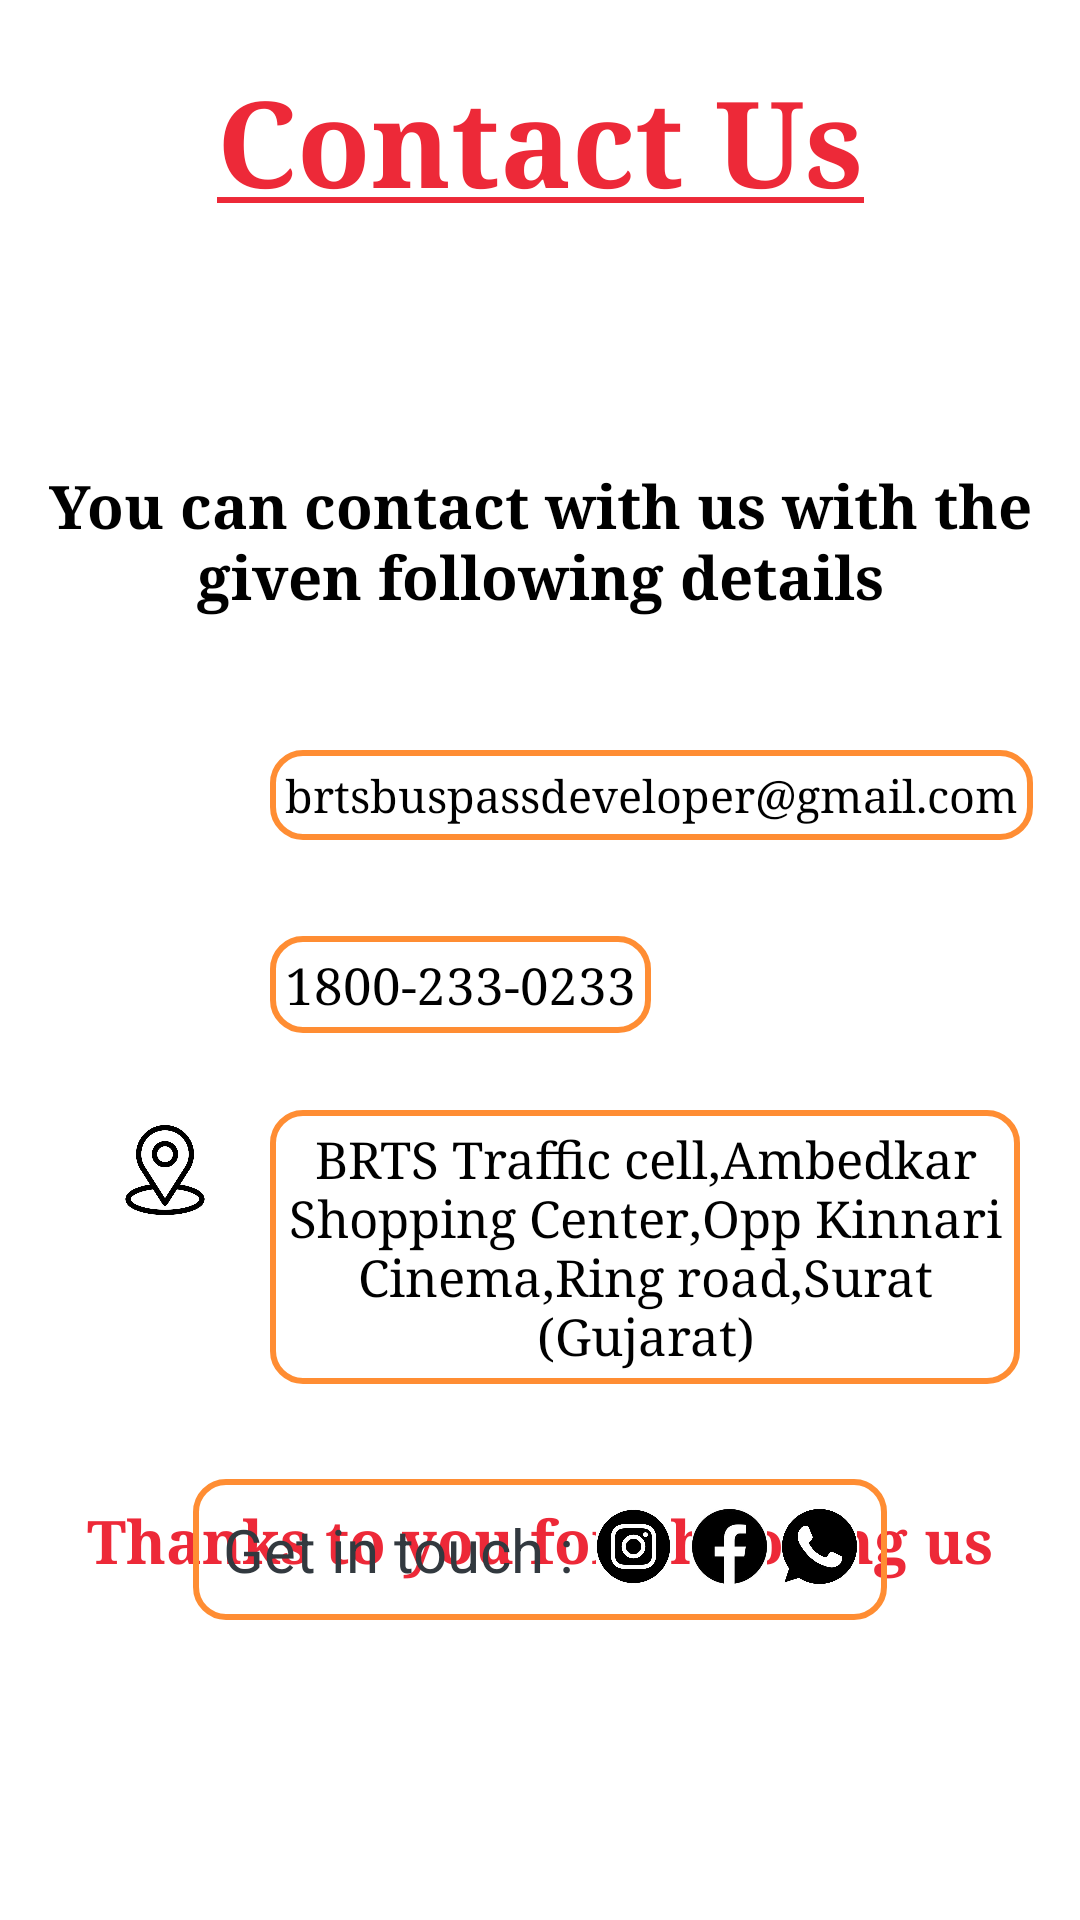

Screen size 1080×1920. Icon name, then its center in pixels as [x,y]:
location: [165,1170]
